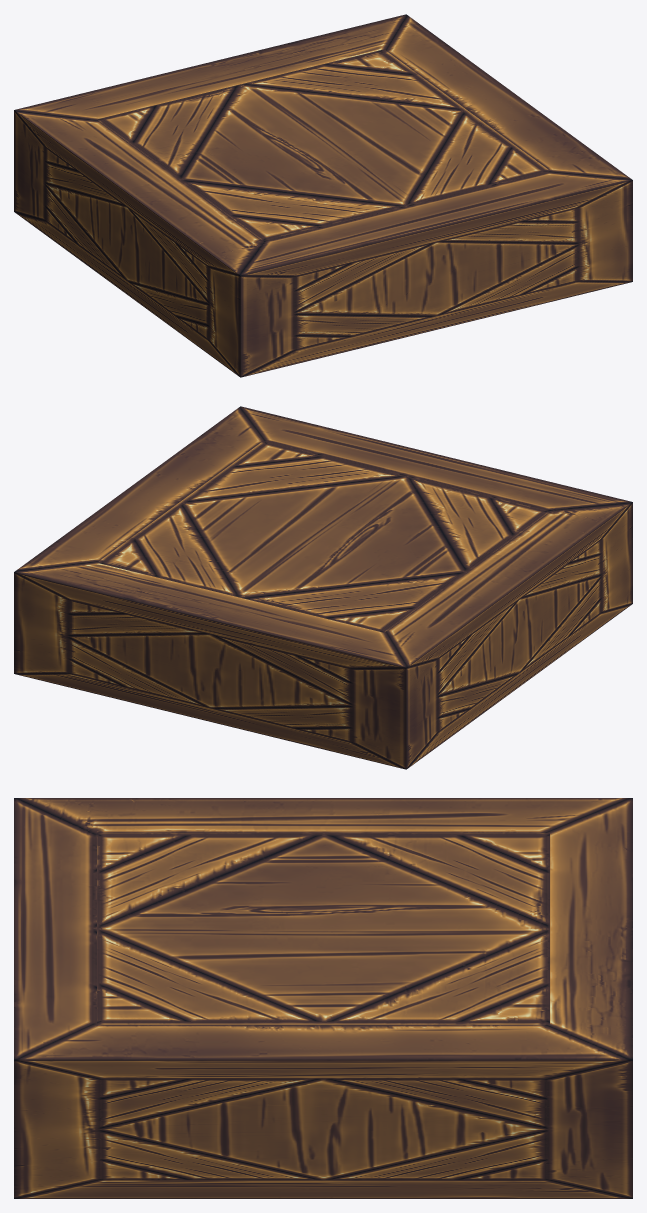
File: TilePression.fbx
3 views of the same model, one above another, from view 1: azimuth 30°, elevation 25°; view 2: azimuth 150°, elevation 25°; view 3: azimuth 270°, elevation 25° (orthographic). The views are drawn at different scales.
Parts seen in each view (by area): view 1: pCube2, pCube1; view 2: pCube2, pCube1; view 3: pCube2, pCube1.
Boxes of the visible parts, x1=… form: pCube2: x1=14, y1=14, x2=632, y2=377; pCube1: x1=97, y1=49, x2=549, y2=240; pCube2: x1=14, y1=406, x2=632, y2=769; pCube1: x1=97, y1=441, x2=549, y2=632; pCube2: x1=14, y1=798, x2=632, y2=1198; pCube1: x1=97, y1=833, x2=549, y2=1024.
Bounding box in the file's own units: 8.42 × 2.37 × 8.42.
